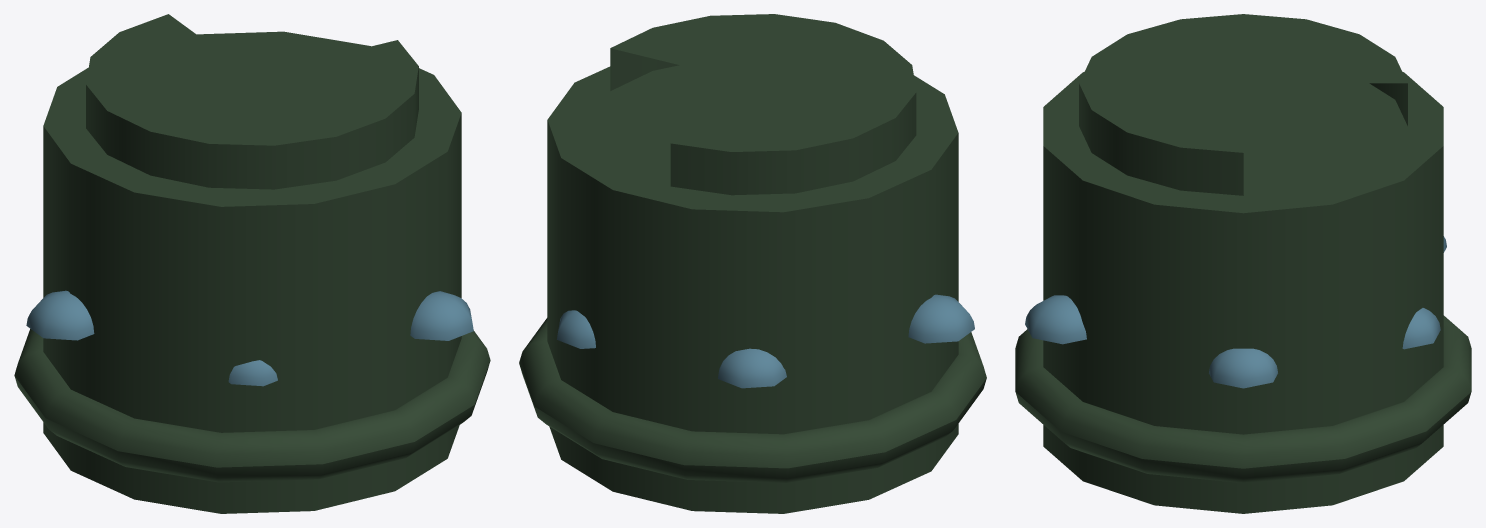
File: slime_coat.obj
The picture shows the model from 3 angles, left to right: view 1: azimuth 30°, elevation 25°; view 2: azimuth 150°, elevation 25°; view 3: azimuth 270°, elevation 25°; orthographic projection. The views are drawn at different scales.
Visible parts, largest first — view 1: slime_coat; view 2: slime_coat; view 3: slime_coat.
Part boxes in pixels (x1=…): slime_coat: x1=14, y1=14, x2=490, y2=513; slime_coat: x1=519, y1=14, x2=986, y2=513; slime_coat: x1=1015, y1=14, x2=1471, y2=513.
Bounding box in the file's own units: 1.52 × 1.2 × 1.44.
